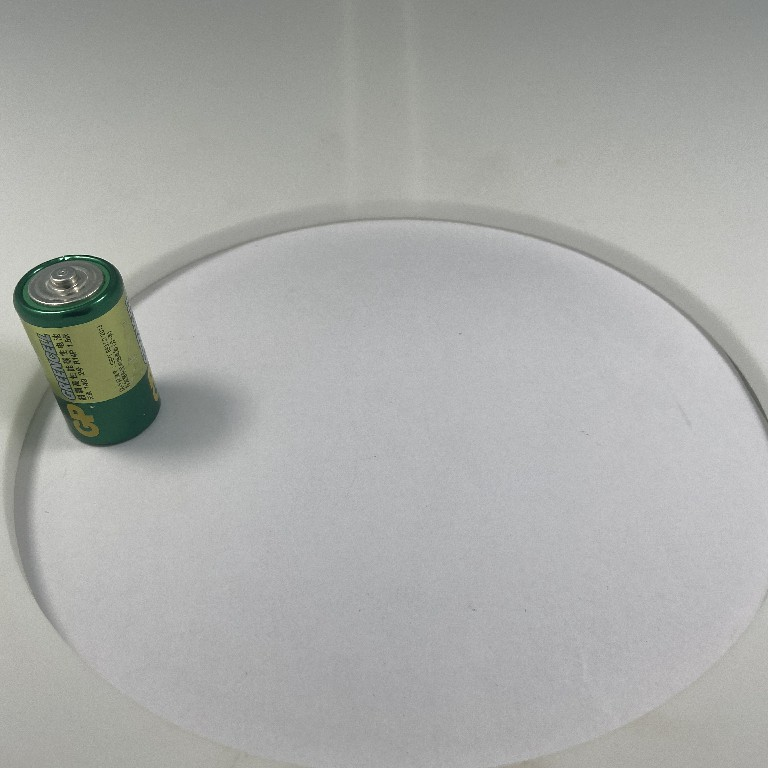charge: (11, 249, 165, 449)
